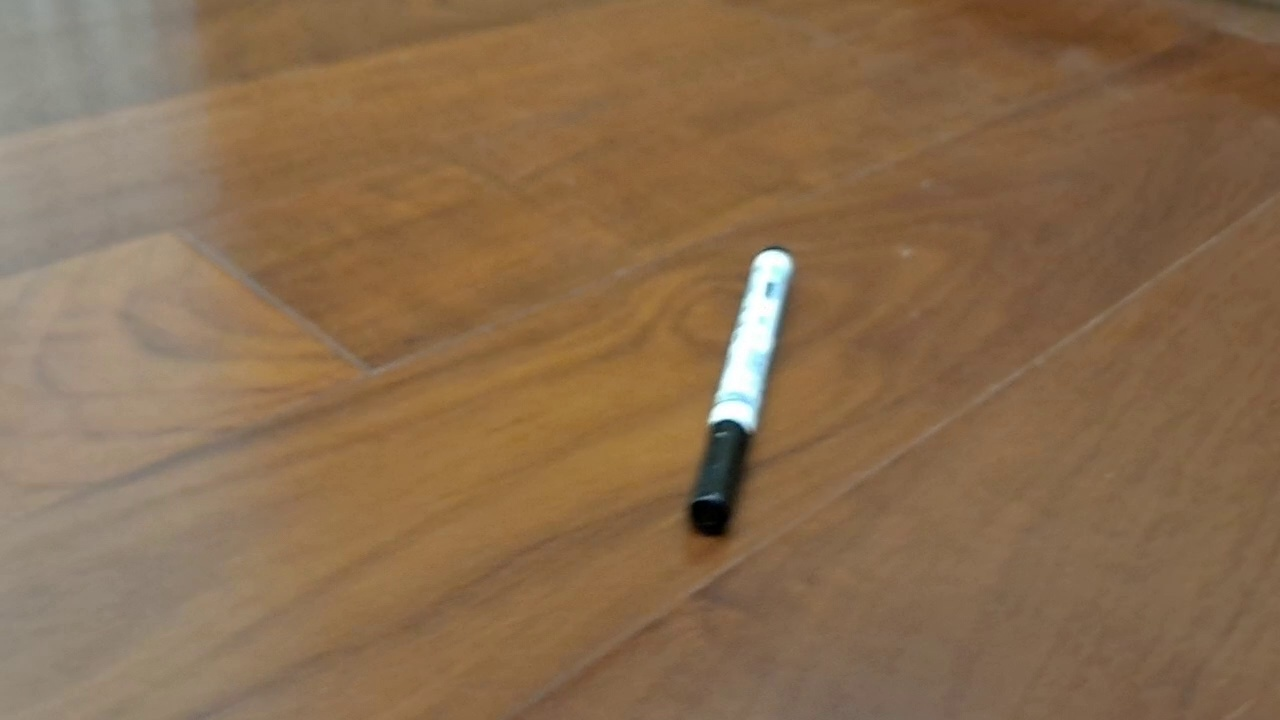pen: (689, 245, 795, 538)
